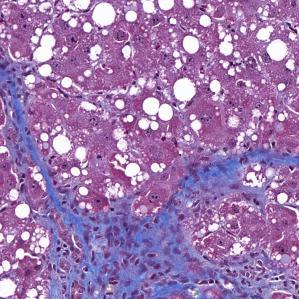fibrosis: (39, 210, 192, 299), (13, 132, 85, 215), (179, 147, 278, 206)
